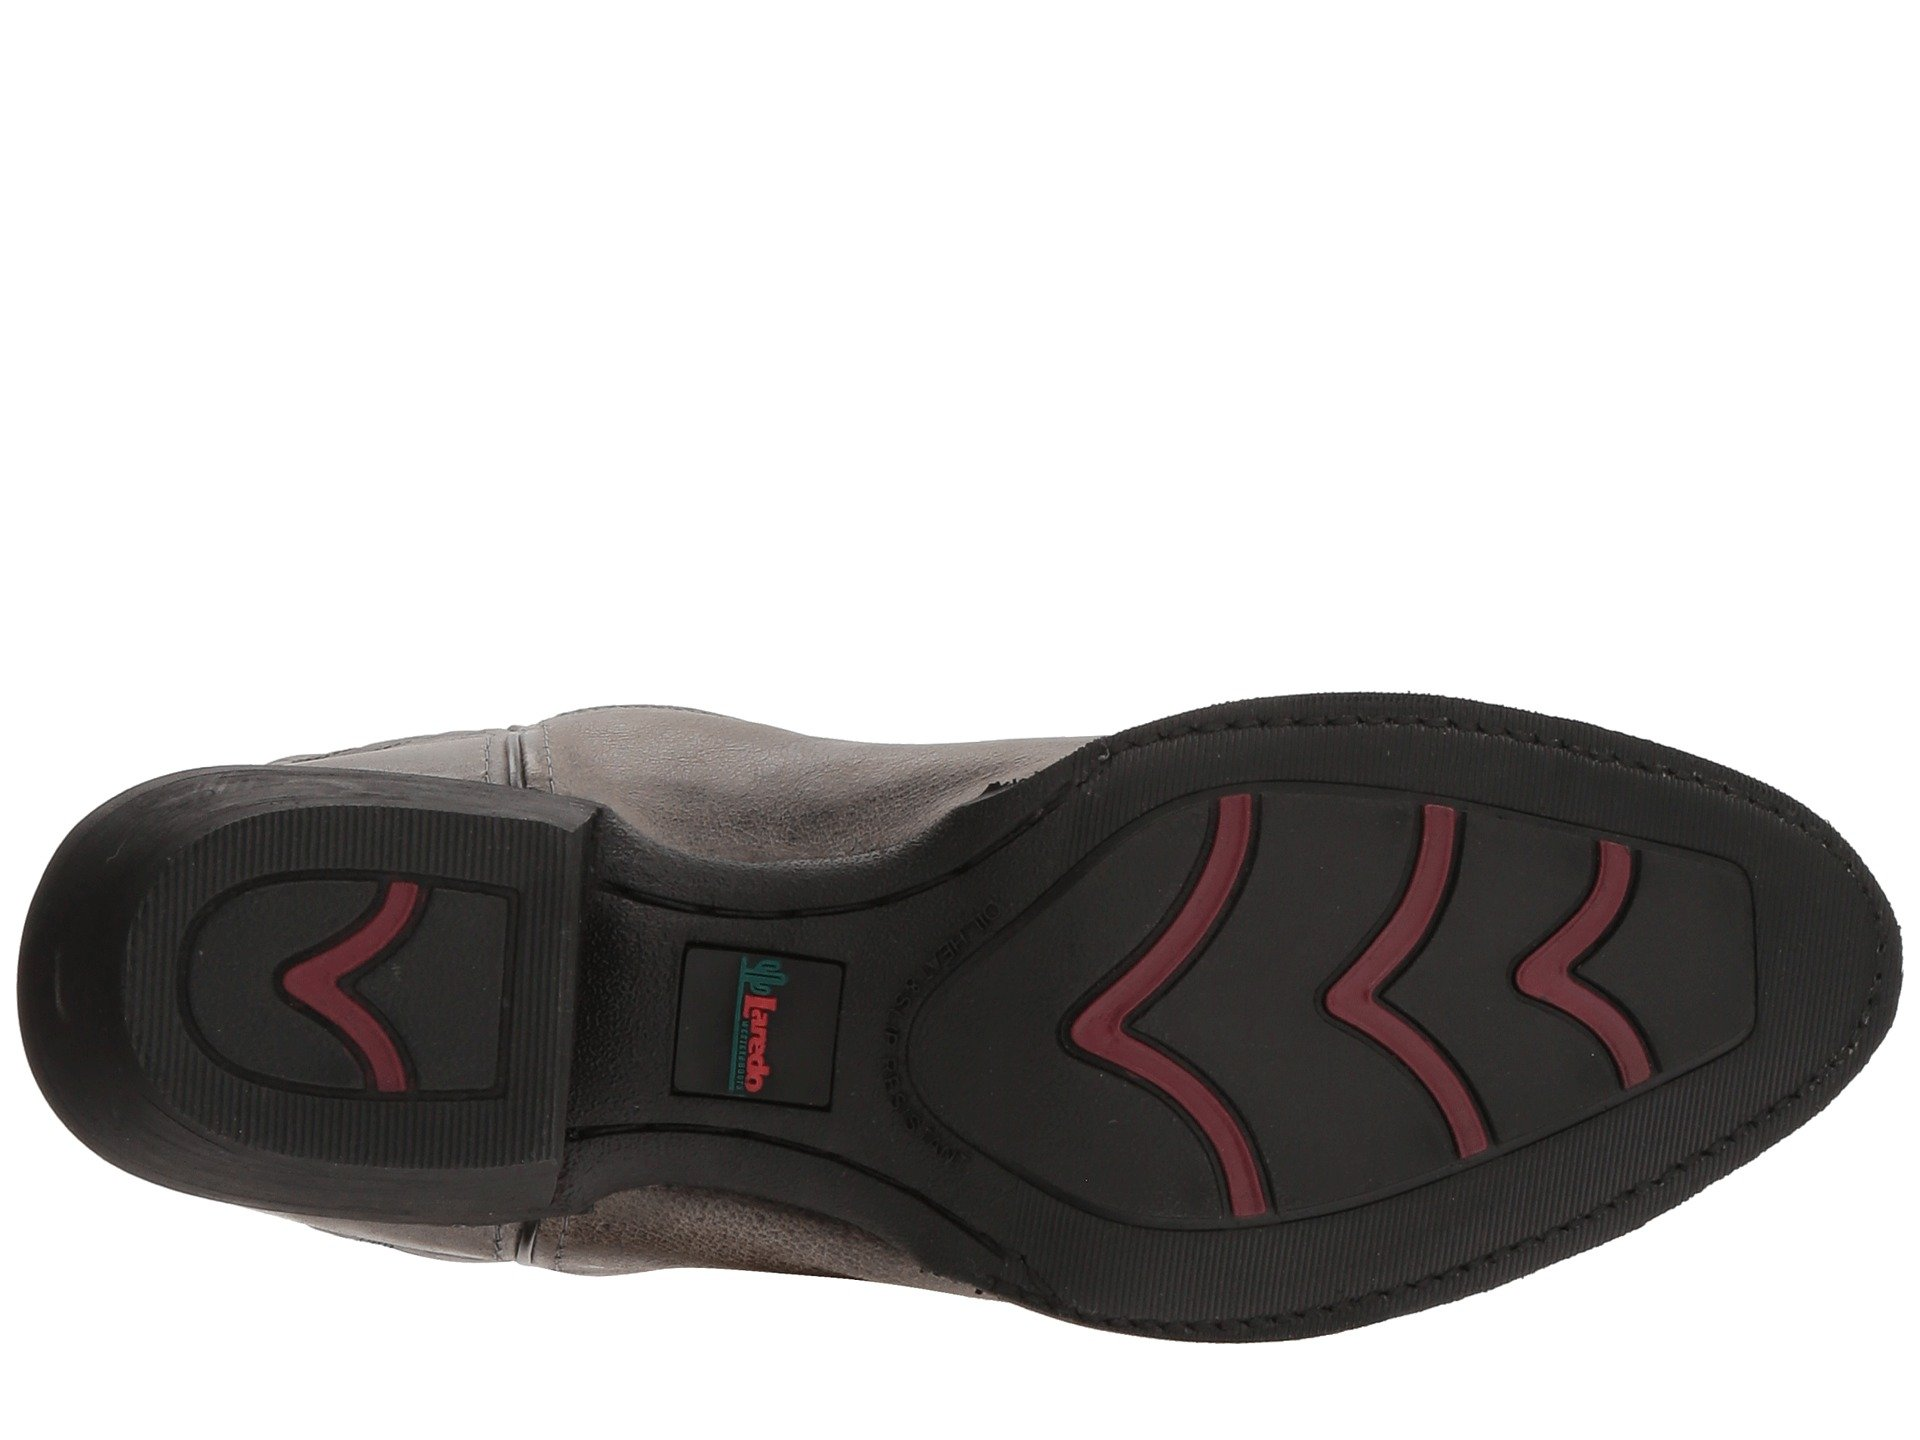chevron: (1141, 836, 1642, 1071)
line: (305, 1109, 555, 1159), (1228, 728, 1427, 782), (346, 818, 537, 874), (1769, 892, 1838, 1029), (1411, 1172, 1495, 1269), (1229, 1234, 1333, 1307), (519, 900, 555, 1069), (144, 947, 184, 1065), (218, 829, 316, 877), (1584, 1119, 1642, 1196), (204, 1082, 274, 1130), (1507, 767, 1583, 802)
